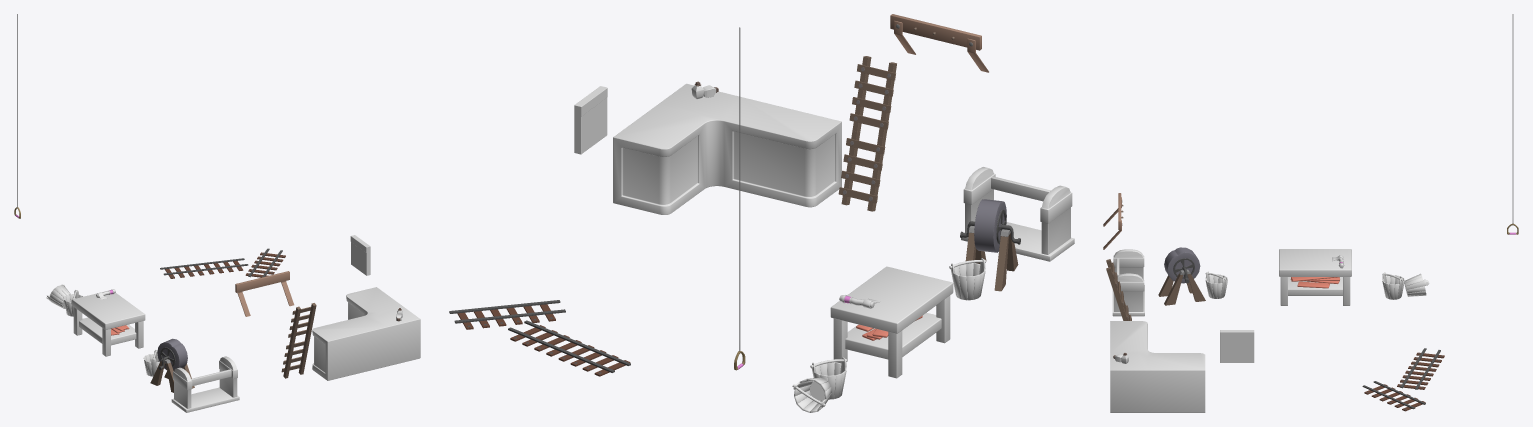
The model's file is UpdatedTexObjects.fbx.
3 renders of one model, left to right at view 1: azimuth 30°, elevation 25°; view 2: azimuth 150°, elevation 25°; view 3: azimuth 270°, elevation 25°, orthographic. The views are drawn at different scales.
Visible parts, largest first — view 1: Cube.080, Desk, Cube.086, Cube.087, Cylinder.005, Cube.079, Cube.089, Cube.010, Cube.090; view 2: Cube.080, Desk, Cube.086, Cube.087, Cylinder.005, Cube.089, Cube.079, Cube.010, Cube.090, Cylinder, Cylinder.007, Cylinder.008 (+1 smaller); view 3: Cube.080, Desk, Cube.086, Cylinder.005, Cube.010, Cube.089, Cube.090, Cube.087, Cylinder.008, Cylinder, Ripcord, Cylinder.007.
Part boxes in pixels (<box>): Cube.080: <box>312,287,420,380</box>; Desk: <box>72,290,145,356</box>; Cube.086: <box>171,356,239,412</box>; Cube.087: <box>281,303,316,378</box>; Cylinder.005: <box>150,338,194,392</box>; Cube.079: <box>235,271,294,316</box>; Cube.089: <box>160,258,248,278</box>; Cube.010: <box>350,235,370,275</box>; Cube.090: <box>245,248,285,277</box>; Cube.080: <box>613,83,841,214</box>; Desk: <box>830,266,953,378</box>; Cube.086: <box>961,167,1074,261</box>; Cube.087: <box>838,56,896,211</box>; Cylinder.005: <box>960,199,1020,291</box>; Cube.089: <box>508,320,630,376</box>; Cube.079: <box>890,14,988,72</box>; Cube.010: <box>574,86,607,154</box>; Cube.090: <box>449,300,565,329</box>; Cylinder: <box>949,258,985,300</box>; Cylinder.007: <box>792,377,831,412</box>; Cylinder.008: <box>810,357,846,399</box>; Cube.080: <box>1110,321,1205,412</box>; Desk: <box>1279,249,1351,305</box>; Cube.086: <box>1112,249,1144,316</box>; Cylinder.005: <box>1158,247,1205,305</box>; Cube.010: <box>1220,330,1254,362</box>; Cube.089: <box>1397,348,1444,389</box>; Cube.090: <box>1362,381,1425,411</box>; Cube.087: <box>1106,259,1131,320</box>; Cylinder.008: <box>1382,272,1404,299</box>; Cylinder: <box>1205,271,1227,298</box>; Ripcord: <box>1507,14,1518,234</box>; Cylinder.007: <box>1404,273,1429,296</box>.
Bounding box in the file's own units: 898 × 938 × 1245.
